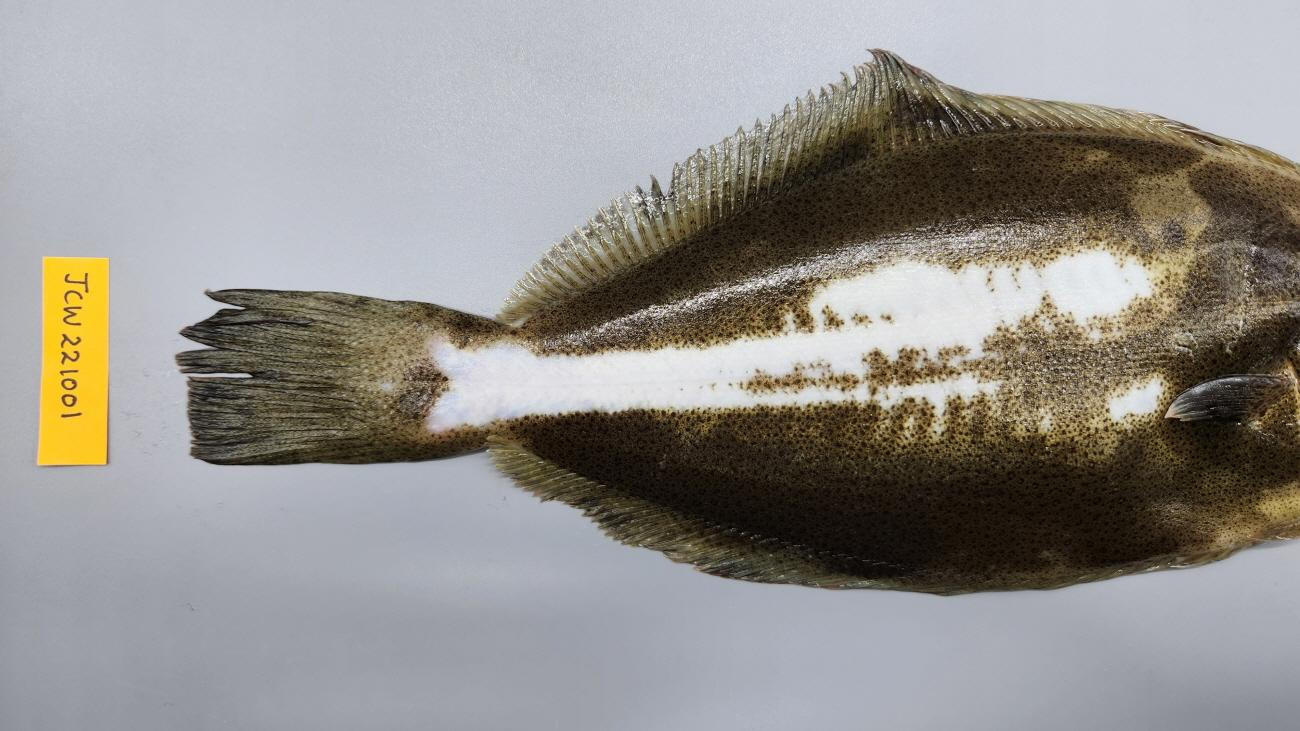POOUN: (175, 48, 1300, 598)
